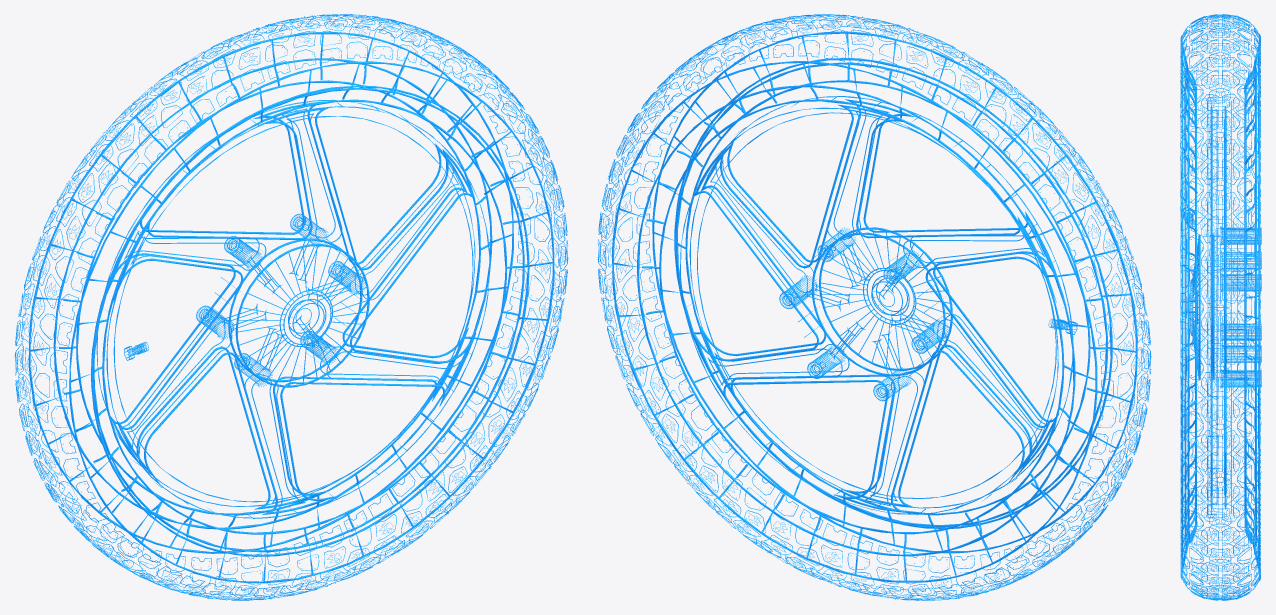
File: Jumbo XT(wireframe).gltf
3 views of the same model, side by side, from view 1: azimuth 30°, elevation 25°; view 2: azimuth 150°, elevation 25°; view 3: azimuth 270°, elevation 25° (orthographic). The views are drawn at different scales.
Parts seen in each view (by area): view 1: Line408, Line409, Circle053, Circle055, Circle058, Circle048, Circle060, Circle054, Circle056, Circle043, Circle033, Circle039 (+2 smaller); view 2: Line409, Line408, Circle058, Circle053, Circle060, Circle056, Circle054, Circle055, Circle048, Circle039, Circle033, Circle043 (+2 smaller); view 3: Circle053, Circle054, Circle055, Circle056, Line408, Line409, Circle058, Circle060, Circle048, Circle043, Circle033, Circle002 (+3 smaller).
Part boxes in pixels (x1=…): Line408: x1=113, y1=106, x2=476, y2=514; Line409: x1=107, y1=101, x2=468, y2=509; Circle053: x1=69, y1=61, x2=554, y2=583; Circle055: x1=91, y1=85, x2=529, y2=556; Circle058: x1=28, y1=31, x2=513, y2=553; Circle048: x1=102, y1=99, x2=506, y2=534; Circle060: x1=53, y1=58, x2=492, y2=529; Circle054: x1=93, y1=87, x2=524, y2=552; Circle056: x1=76, y1=80, x2=480, y2=515; Circle043: x1=106, y1=106, x2=490, y2=518; Circle033: x1=113, y1=116, x2=473, y2=502; Circle039: x1=96, y1=100, x2=475, y2=506; Line409: x1=692, y1=104, x2=1056, y2=512; Line408: x1=700, y1=99, x2=1064, y2=507; Circle058: x1=612, y1=61, x2=1097, y2=582; Circle053: x1=652, y1=31, x2=1137, y2=553; Circle060: x1=637, y1=85, x2=1075, y2=556; Circle056: x1=659, y1=99, x2=1064, y2=534; Circle054: x1=676, y1=62, x2=1107, y2=527; Circle055: x1=674, y1=58, x2=1112, y2=528; Circle048: x1=685, y1=80, x2=1090, y2=515; Circle039: x1=680, y1=107, x2=1058, y2=514; Circle033: x1=697, y1=112, x2=1056, y2=498; Circle043: x1=689, y1=96, x2=1073, y2=508; Circle053: x1=1181, y1=42, x2=1183, y2=571; Circle054: x1=1187, y1=71, x2=1189, y2=543; Circle055: x1=1184, y1=68, x2=1186, y2=546; Circle056: x1=1244, y1=86, x2=1246, y2=528; Line408: x1=1210, y1=105, x2=1212, y2=509; Line409: x1=1224, y1=106, x2=1226, y2=509; Circle058: x1=1258, y1=42, x2=1259, y2=571; Circle060: x1=1255, y1=68, x2=1256, y2=546; Circle048: x1=1195, y1=86, x2=1196, y2=525; Circle043: x1=1207, y1=98, x2=1208, y2=516; Circle033: x1=1216, y1=111, x2=1217, y2=503; Circle002: x1=1212, y1=234, x2=1214, y2=379.
Bounding box in the file's own units: 7.37 × 7.36 × 1.02.
